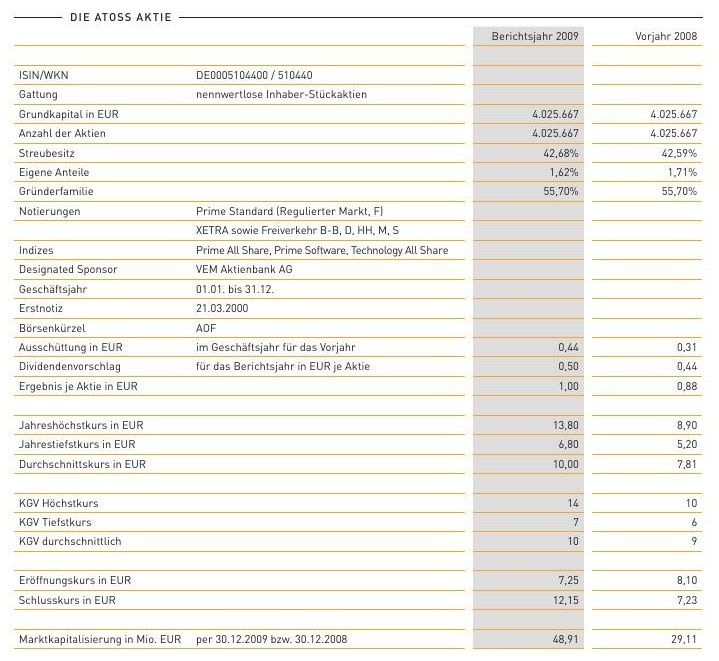table: (0, 0, 719, 661)
